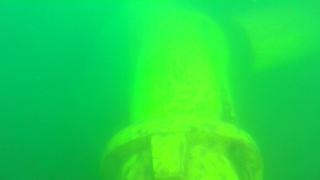pipe: (97, 14, 263, 179), (228, 10, 320, 73)
